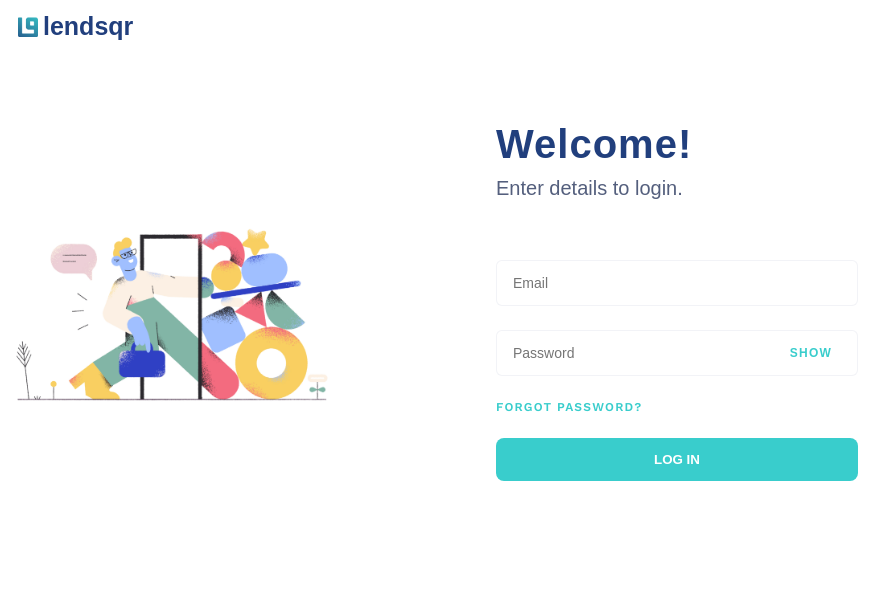
Test: Login Component › shows password validation when password field is focused and blurred
Type "weak" into the password field with placeholder "Password".
click(677, 352); type("weak")  # box left=496, top=330, right=858, bottom=376
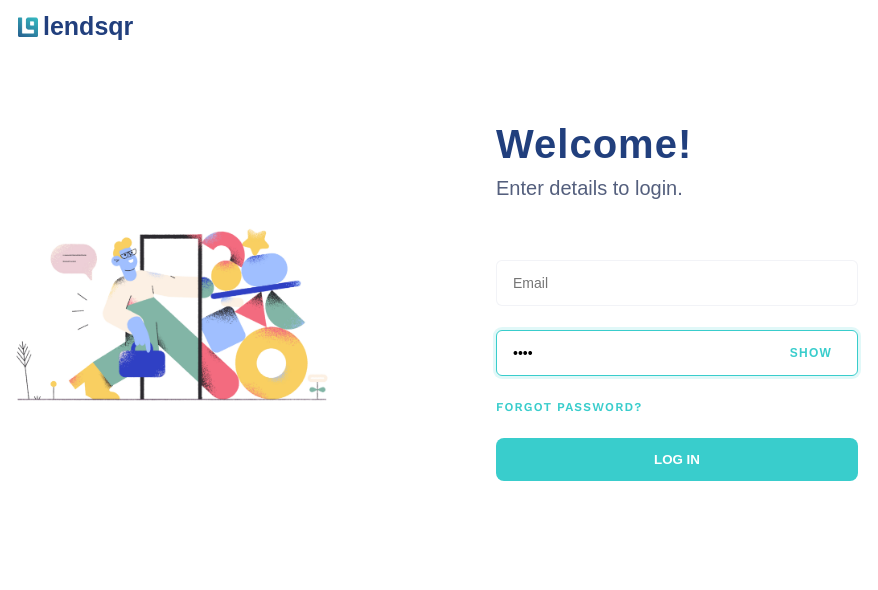
Press Tab
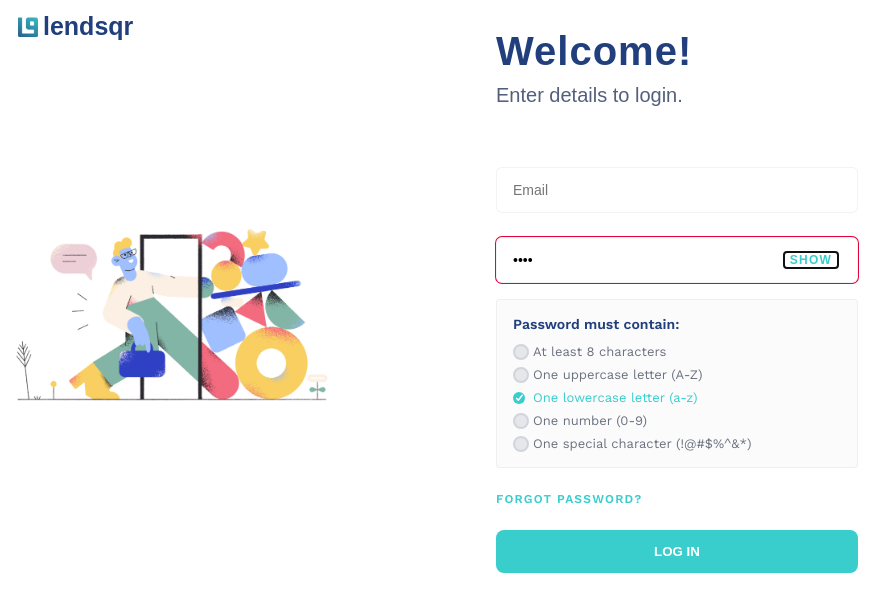
Expected: the text "Password must contain:" is shown, left=513, top=316, right=679, bottom=332
Expected: the list item "At least 8 characters" is shown, left=533, top=344, right=666, bottom=359
